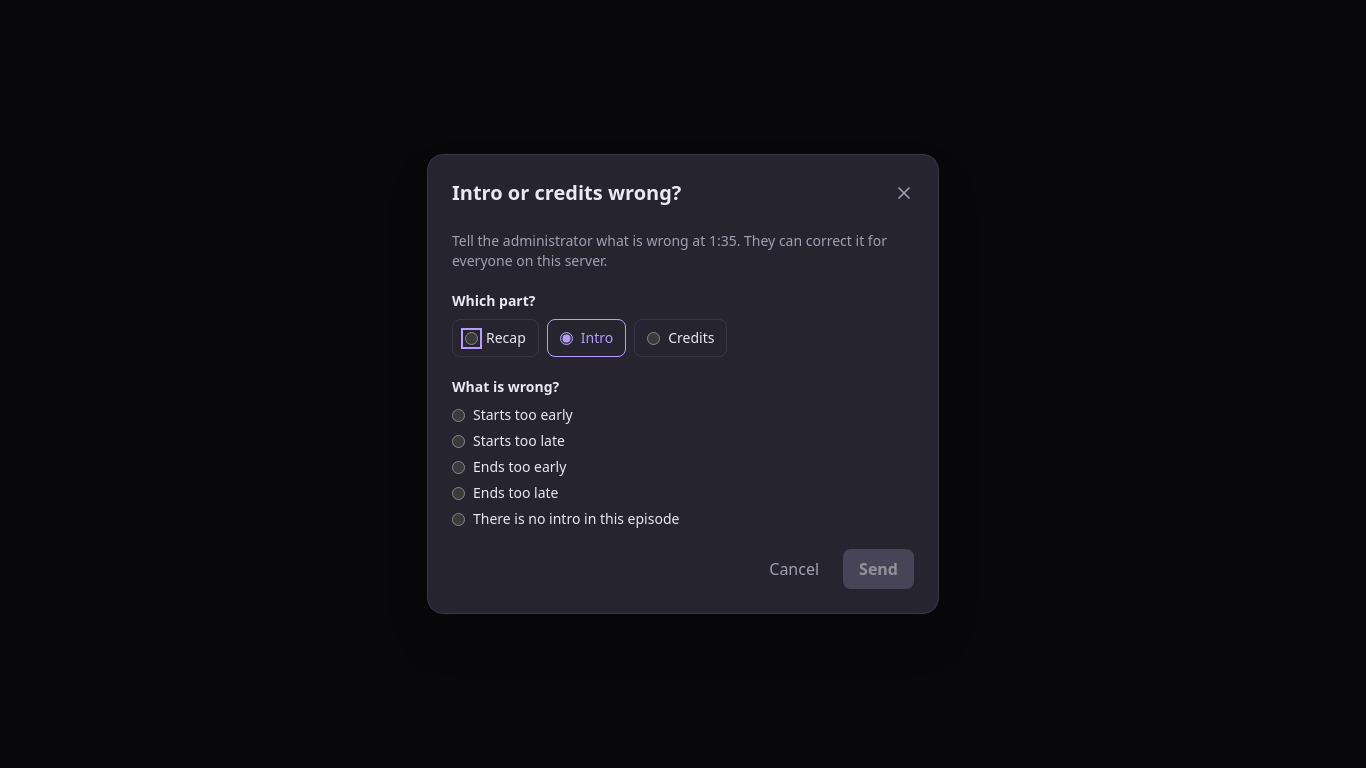
it: reporting a wrong intro or credits › sends the part, the problem and where the viewer is, and thanks them
Expected: the text "at 1:35" is shown, [452,231,887,270]
Note: The intro was found: its times can be wrong.
What coordinates should you click on to do the following:
click the radio button labelled "Ends too late"
I would click on:
 (458, 493)
Its box is [452,486,465,500].
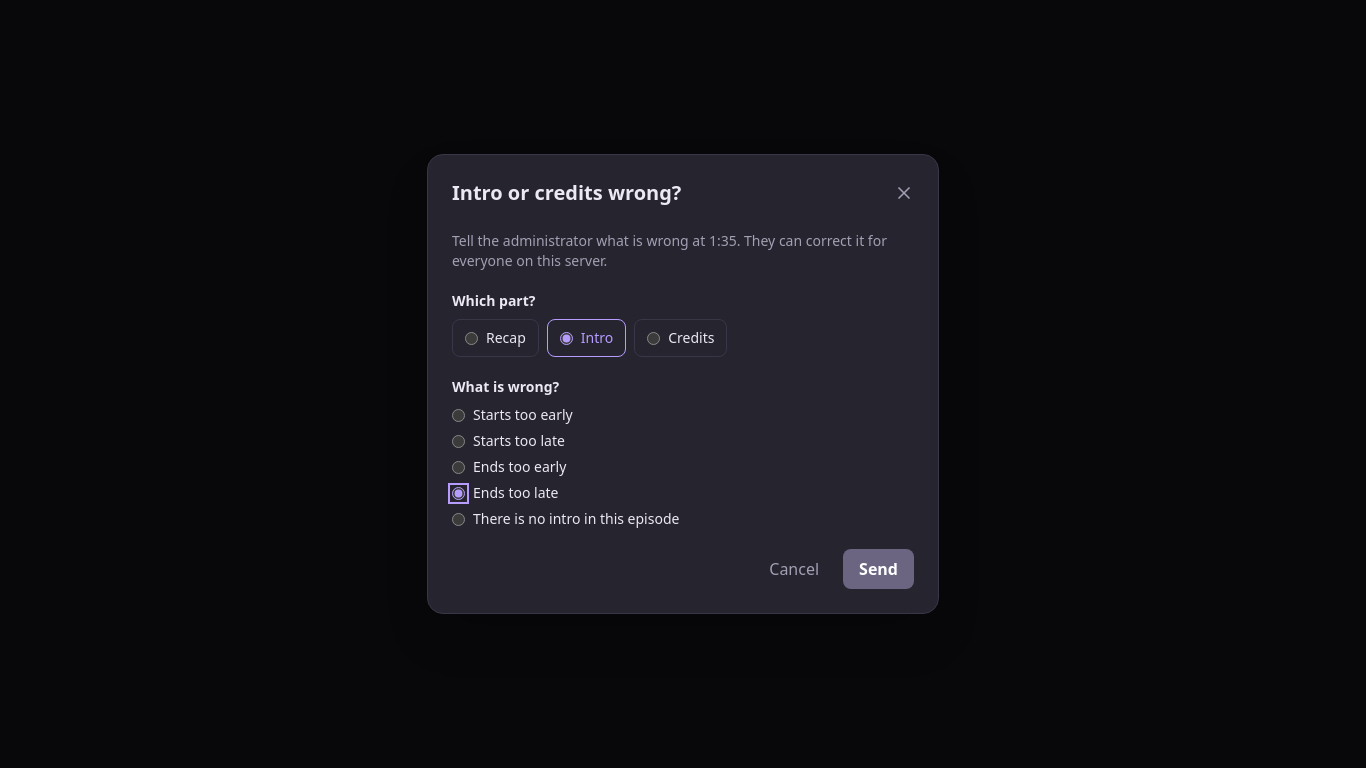
What coordinates should you click on to do the following:
click the button "Send"
I would click on:
 (879, 569)
Its box is [843,549,914,589].
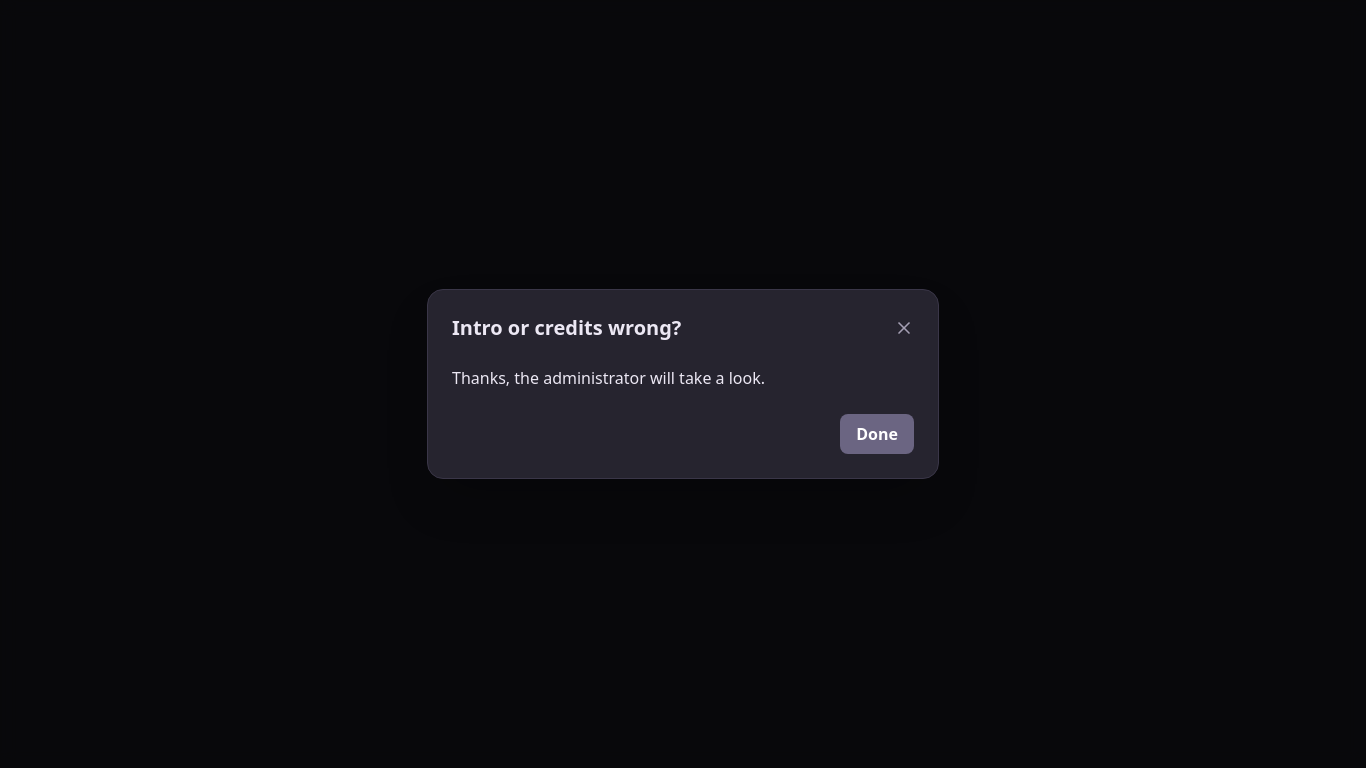
Now the message reads "Thanks, the administrator will take a look.", box [452,367,765,389]
